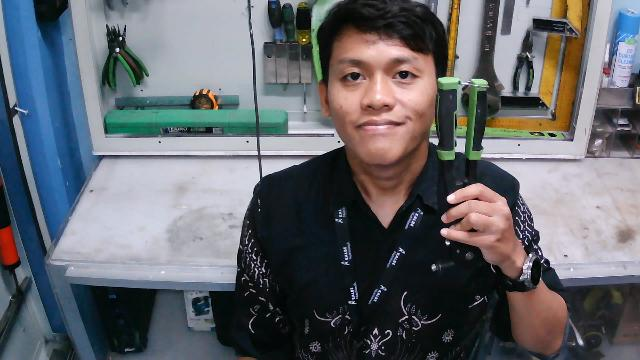tang_rivet: (430, 72, 489, 277)
